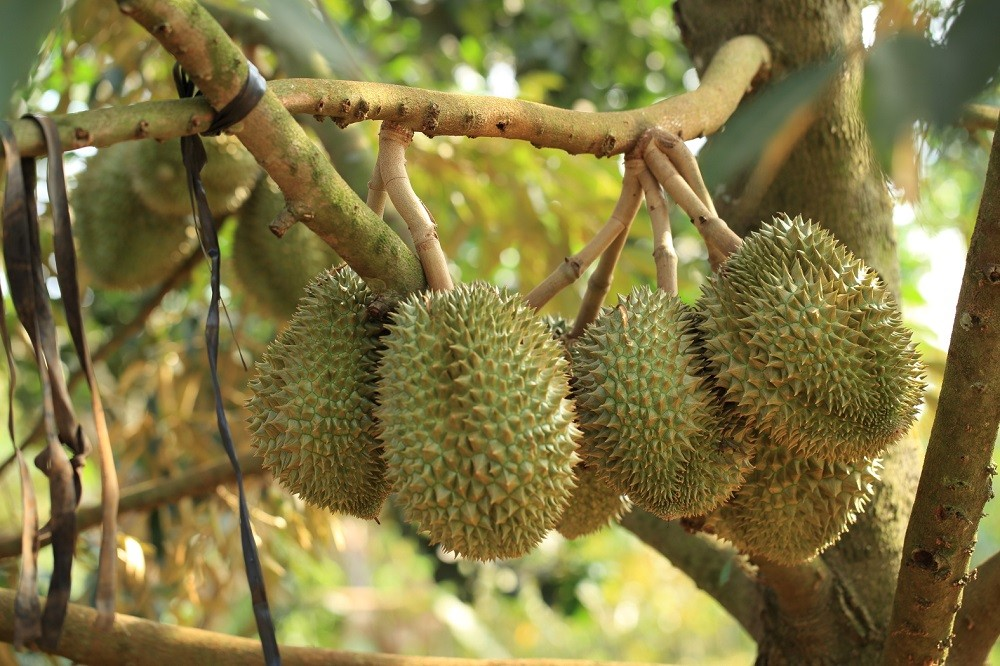sau_rieng: (240, 215, 951, 555)
